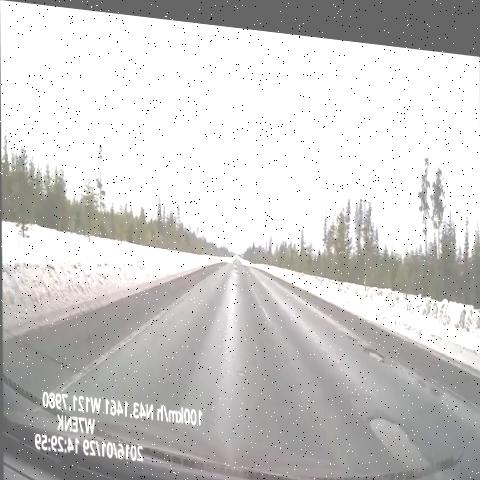pothole: (357, 386, 429, 469), (356, 327, 383, 358), (225, 269, 243, 286), (227, 256, 244, 274), (233, 358, 248, 378)
